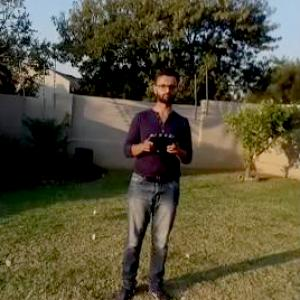follow: (110, 61, 196, 299)
